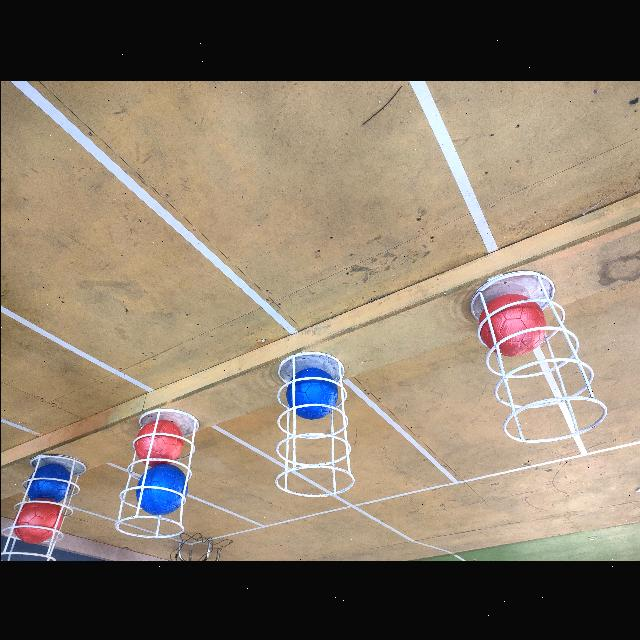B: (287, 366, 337, 420), (136, 465, 187, 515), (26, 462, 72, 502)
R: (477, 292, 545, 356), (10, 494, 60, 544), (134, 419, 182, 463)
